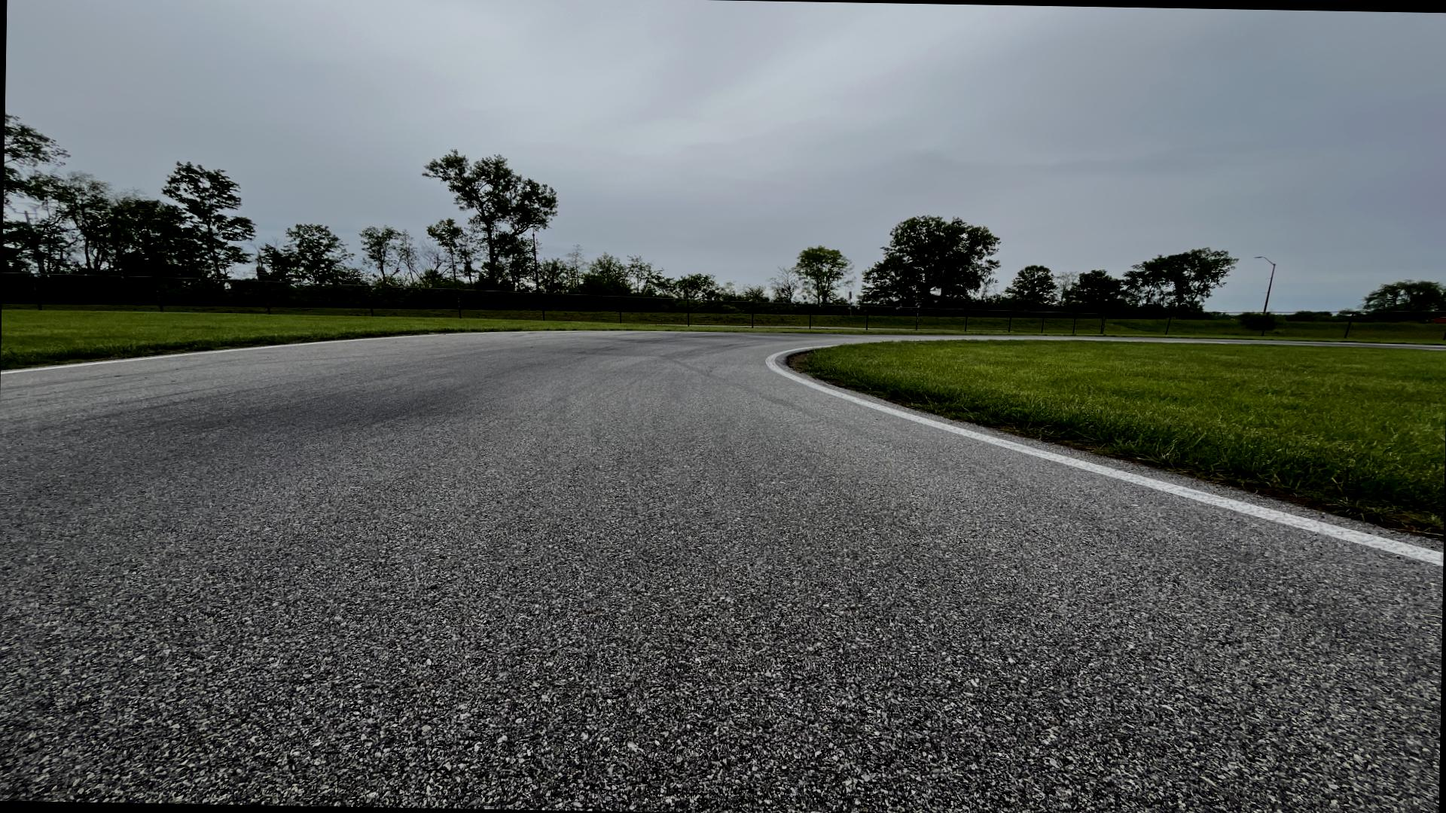white-line: (764, 347, 1443, 567), (1, 331, 648, 374)
